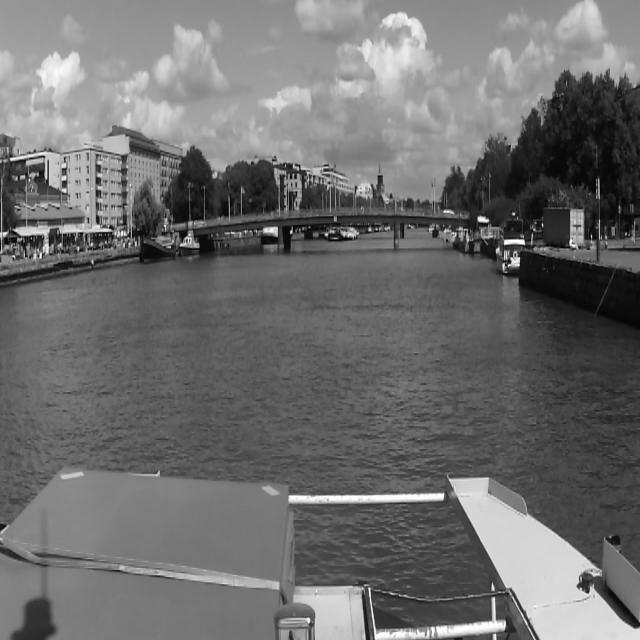ship: (141, 213, 177, 264), (493, 232, 527, 274), (179, 234, 200, 258)
